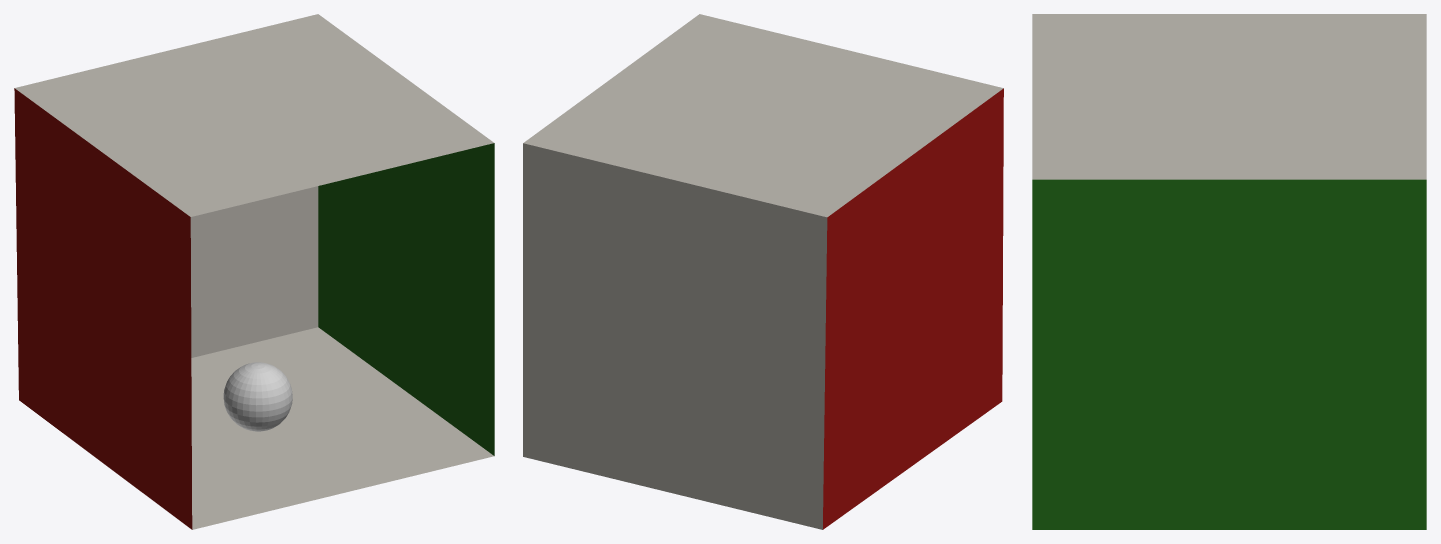
The model's file is ball-original-cornellbox.obj.
3 views of the same model, side by side, from view 1: azimuth 30°, elevation 25°; view 2: azimuth 150°, elevation 25°; view 3: azimuth 270°, elevation 25° (orthographic). The views are drawn at different scales.
Parts seen in each view (by area): view 1: left_wall, ceiling, right_wall, ground, back_wall, Sphere; view 2: back_wall, left_wall, ceiling; view 3: right_wall, ceiling.
Boxes of the visible parts, x1=… form: left_wall: x1=14, y1=88, x2=192, y2=529; ceiling: x1=15, y1=14, x2=493, y2=216; right_wall: x1=318, y1=143, x2=494, y2=455; ground: x1=191, y1=327, x2=493, y2=529; back_wall: x1=190, y1=186, x2=318, y2=357; Sphere: x1=223, y1=362, x2=292, y2=431; back_wall: x1=523, y1=143, x2=827, y2=529; left_wall: x1=823, y1=88, x2=1003, y2=529; ceiling: x1=523, y1=14, x2=1003, y2=217; right_wall: x1=1032, y1=179, x2=1426, y2=529; ceiling: x1=1032, y1=14, x2=1426, y2=179.
Bounding box in the file's own units: 2.02 × 1.99 × 2.03.
